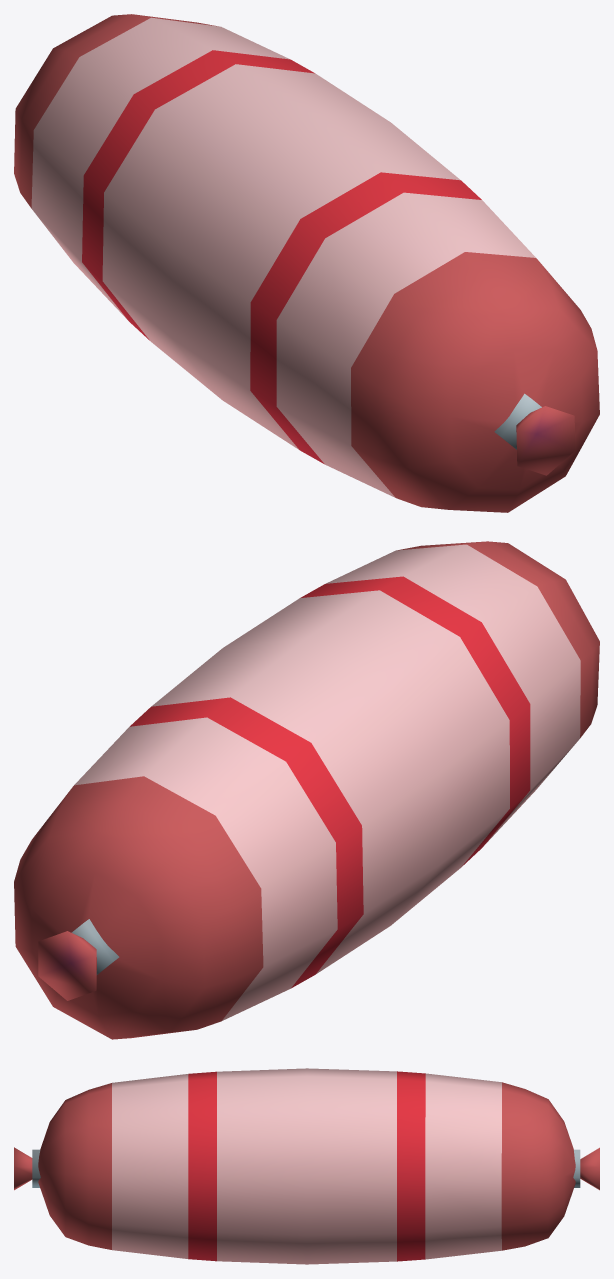
Rendered from sasuage_002.fbx.
3 views of the same model, one above another, from view 1: azimuth 30°, elevation 25°; view 2: azimuth 150°, elevation 25°; view 3: azimuth 270°, elevation 25° (orthographic). The views are drawn at different scales.
Parts seen in each view (by area): view 1: sasuage_002; view 2: sasuage_002; view 3: sasuage_002.
Boxes of the visible parts, x1=… form: sasuage_002: x1=14, y1=14, x2=599, y2=512; sasuage_002: x1=14, y1=541, x2=599, y2=1039; sasuage_002: x1=14, y1=1068, x2=599, y2=1264.
Bounding box in the file's own units: 7.64 × 23.54 × 8.01.
